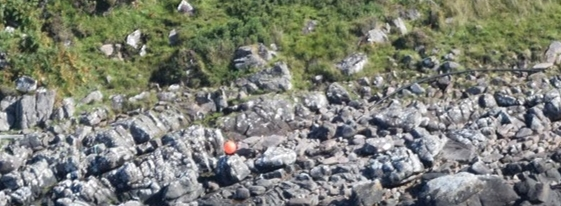tube: (437, 62, 549, 83), (375, 75, 432, 106)
white_in_green: (202, 126, 262, 172)
